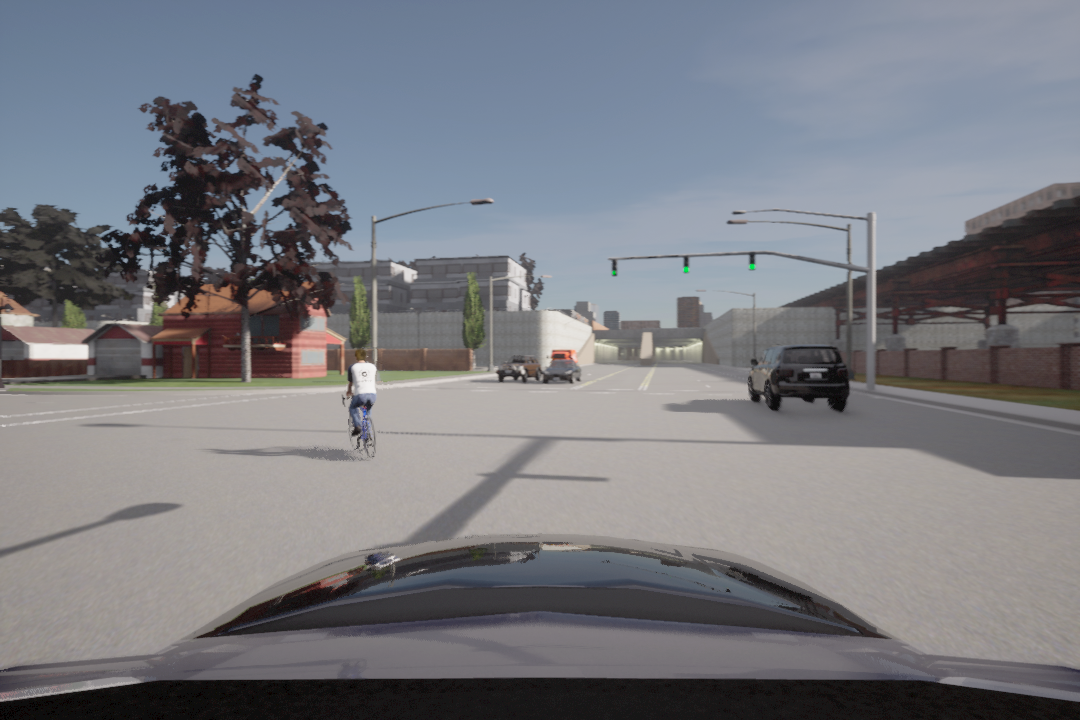TrafficLight: (680, 251, 691, 277), (609, 260, 619, 278), (749, 249, 756, 272)
